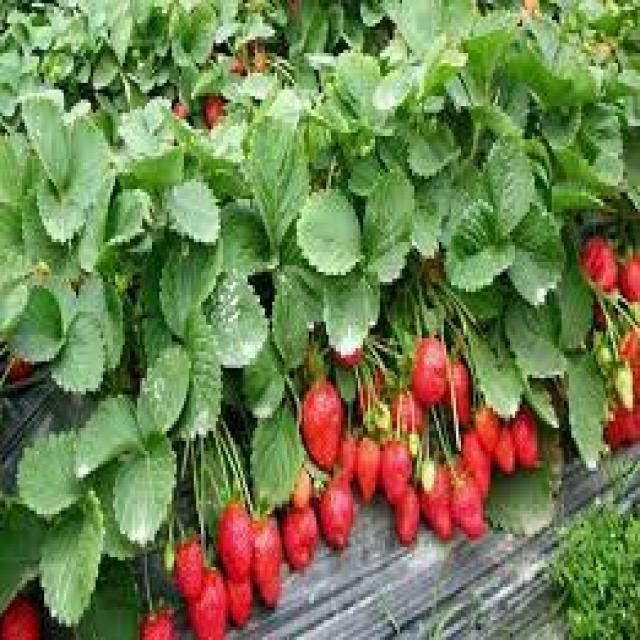Fruta sana: (441, 450, 488, 541), (250, 506, 286, 613), (334, 337, 381, 417), (306, 377, 342, 468), (418, 456, 454, 546), (278, 497, 320, 571), (220, 501, 254, 578), (412, 334, 450, 402), (190, 569, 226, 640), (169, 532, 204, 604), (604, 386, 640, 456), (576, 238, 620, 292), (464, 430, 496, 502), (614, 326, 640, 414), (442, 359, 473, 432), (379, 441, 412, 508), (322, 480, 353, 550), (511, 410, 544, 475), (219, 574, 257, 630), (386, 386, 426, 436), (5, 593, 41, 640), (135, 603, 179, 640), (396, 482, 421, 546), (610, 251, 640, 304), (356, 436, 381, 499), (475, 406, 501, 456), (329, 438, 356, 484), (6, 348, 32, 394), (496, 432, 518, 474), (293, 461, 311, 506), (202, 98, 224, 128), (165, 98, 195, 120)
